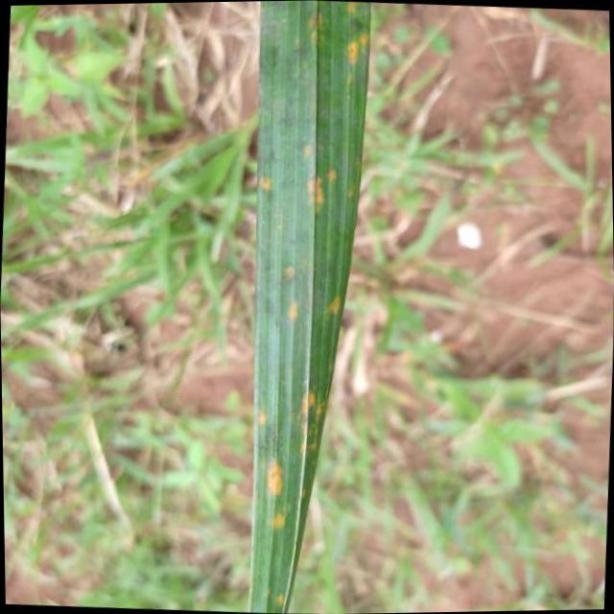Kalium: (253, 0, 374, 614)
